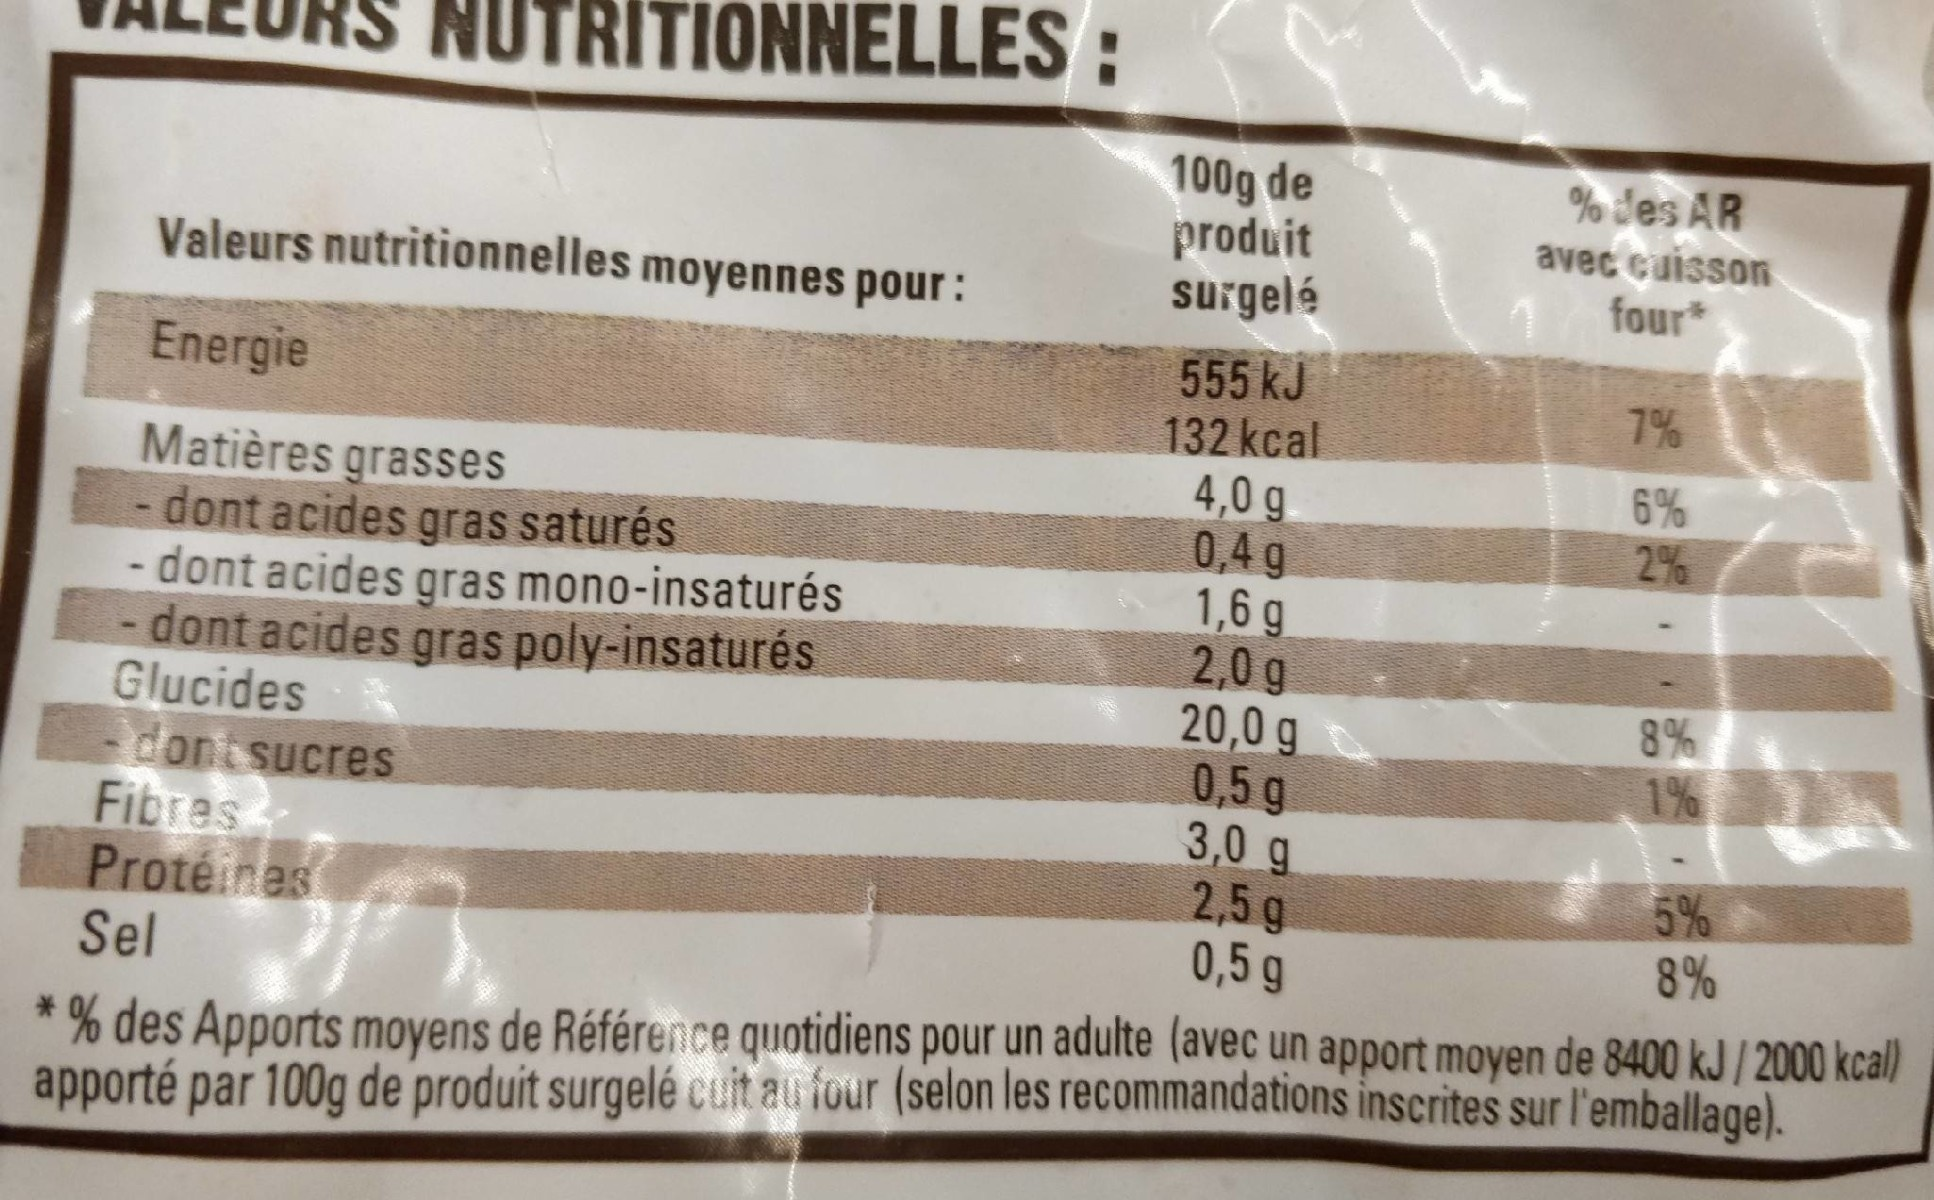column: (64, 181, 988, 977), (1523, 169, 1774, 1019), (1158, 142, 1326, 1011)
table: (24, 57, 1917, 1185)
